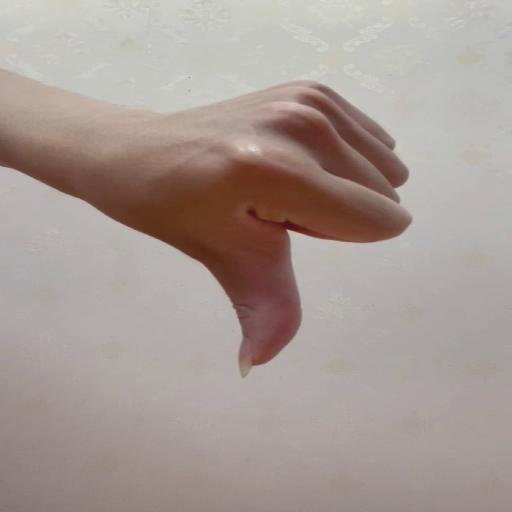thumbs_down: (120, 77, 414, 377)
